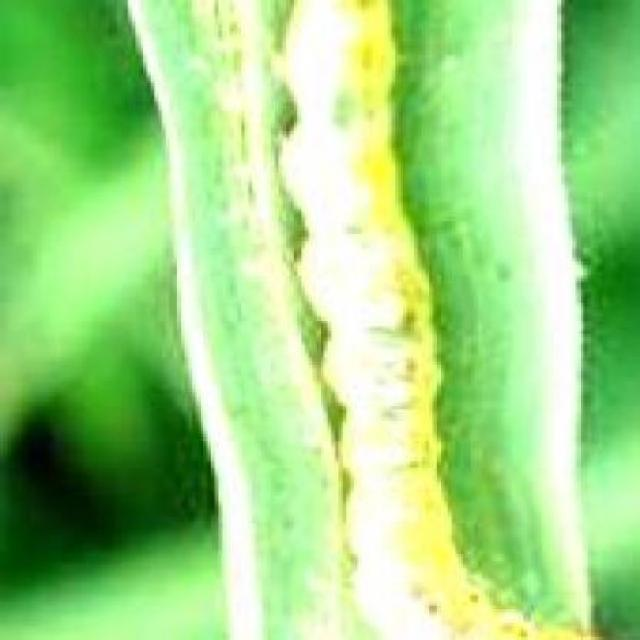leaf-folder: (237, 12, 580, 640)
